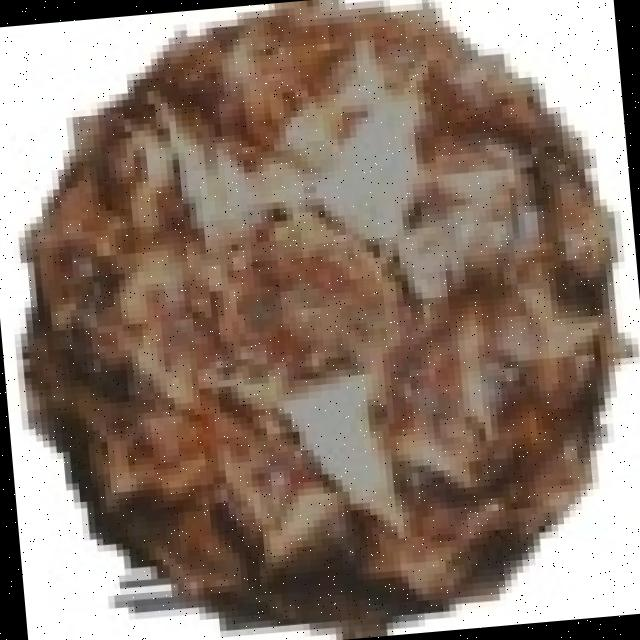pineapple: (42, 1, 636, 616)
